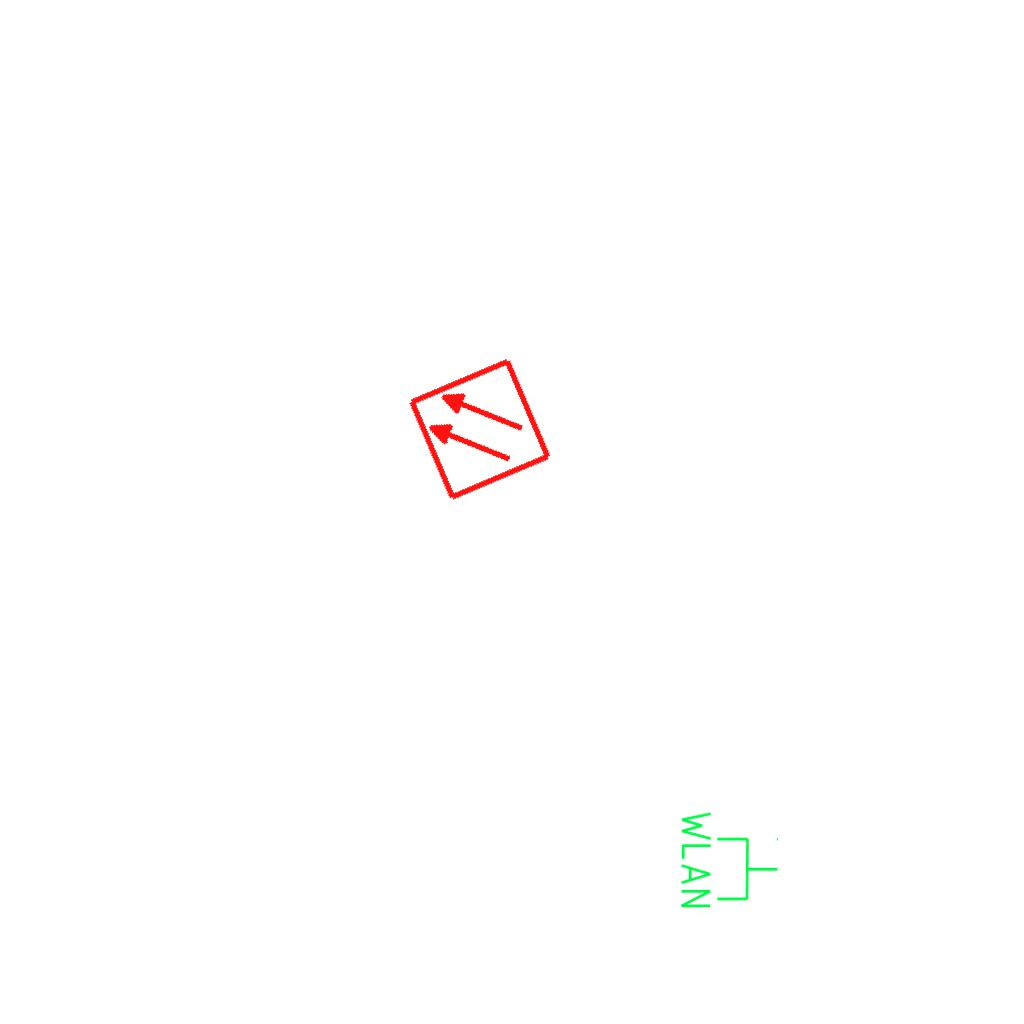RMO_Rauchmelder_optischer: (405, 355, 554, 504)
WLAN: (677, 807, 781, 912)
